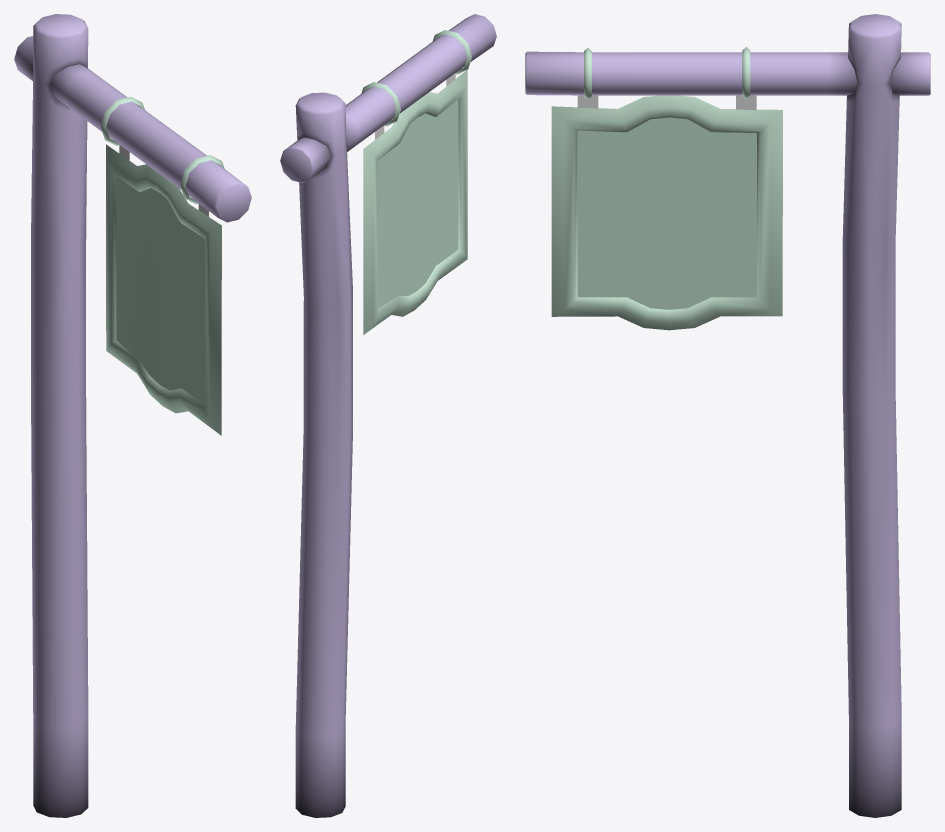
File: sign.fbx
The picture shows the model from 3 angles, left to right: view 1: azimuth 30°, elevation 25°; view 2: azimuth 150°, elevation 25°; view 3: azimuth 270°, elevation 25°; orthographic projection. The views are drawn at different scales.
Visible parts, largest first — view 1: SignBraidwoodInn01:0, Sign:2; view 2: SignBraidwoodInn01:0, Sign:2; view 3: SignBraidwoodInn01:0, Sign:2.
Boxes of the visible parts, x1,y1,x2,y2 form: SignBraidwoodInn01:0: (14, 14, 251, 817); Sign:2: (100, 96, 224, 435); SignBraidwoodInn01:0: (280, 14, 496, 817); Sign:2: (361, 30, 471, 334); SignBraidwoodInn01:0: (525, 14, 930, 817); Sign:2: (551, 47, 782, 330).
Size of the model in its own units: 1991 by 28000 by 13160.
